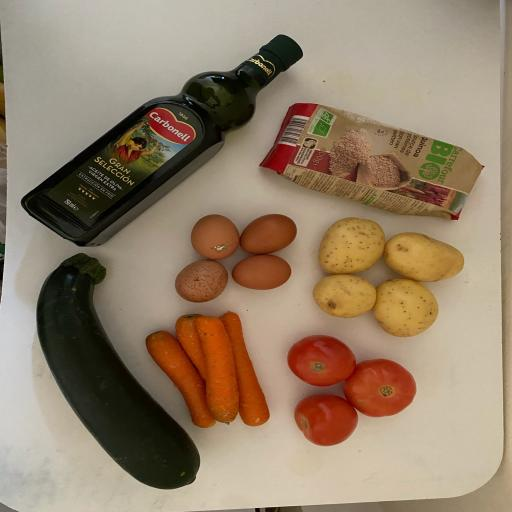carrot: (132, 308, 242, 434), (166, 308, 242, 428), (211, 302, 277, 439), (180, 304, 244, 434)
courgette: (16, 241, 229, 496), (7, 242, 217, 498)
egg: (234, 211, 303, 257), (168, 255, 230, 303), (189, 212, 244, 263), (230, 252, 295, 291)
olive_oil: (16, 6, 306, 254)
potato: (359, 265, 448, 349), (376, 226, 472, 298), (306, 202, 384, 288), (306, 266, 384, 327)
quinoa: (234, 82, 501, 229)
tomato: (345, 357, 421, 420), (284, 332, 360, 390), (292, 390, 361, 451)
